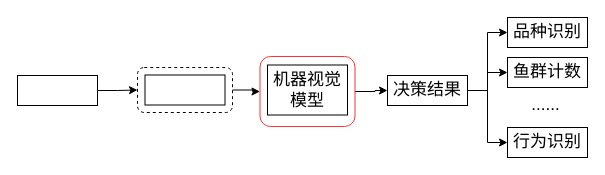
Some shapes in this 605 by 175 pixel diagram are drawn without their labels. Each missing label, with the centre of its shape:
"图片处理" goes at pixel 184 89.
"输入图片" goes at pixel 57 90.
